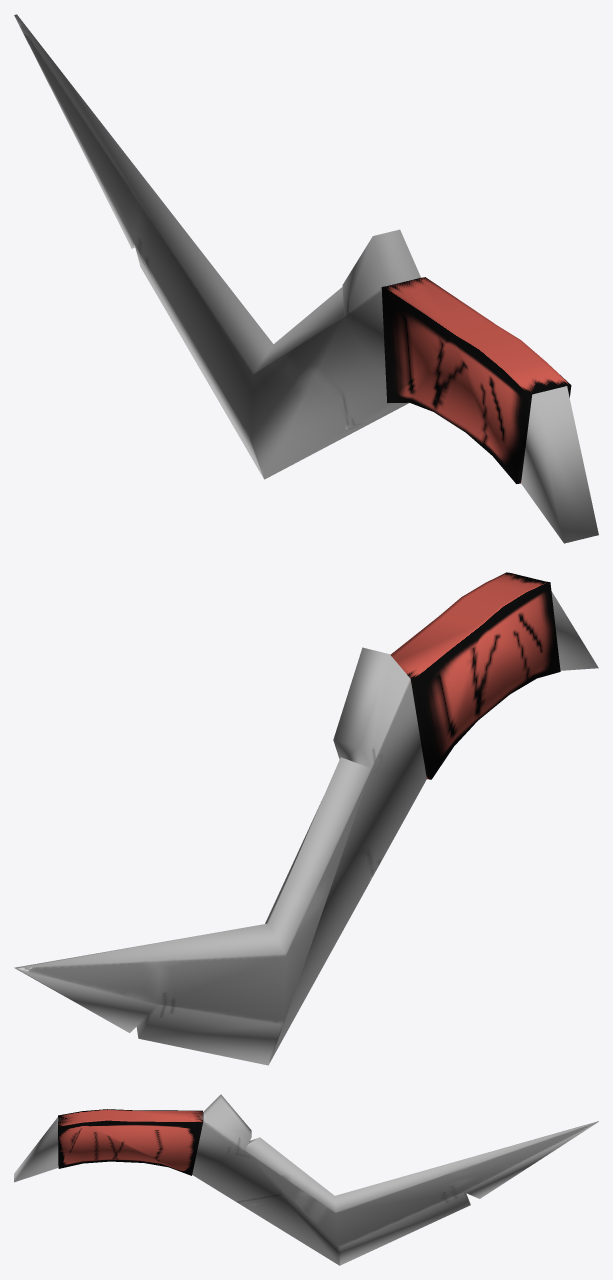
Rendered from espada.fbx.
3 views of the same model, one above another, from view 1: azimuth 30°, elevation 25°; view 2: azimuth 150°, elevation 25°; view 3: azimuth 270°, elevation 25° (orthographic). The views are drawn at different scales.
Parts seen in each view (by area): view 1: Cube; view 2: Cube; view 3: Cube.
Boxes of the visible parts, left/top/right/bottom form: Cube: left=14, top=14, right=598, bottom=543; Cube: left=14, top=572, right=598, bottom=1065; Cube: left=14, top=1094, right=598, bottom=1265.
Bounding box in the file's own units: 68.83 × 397 × 1237.
1 material, 1 textured.
